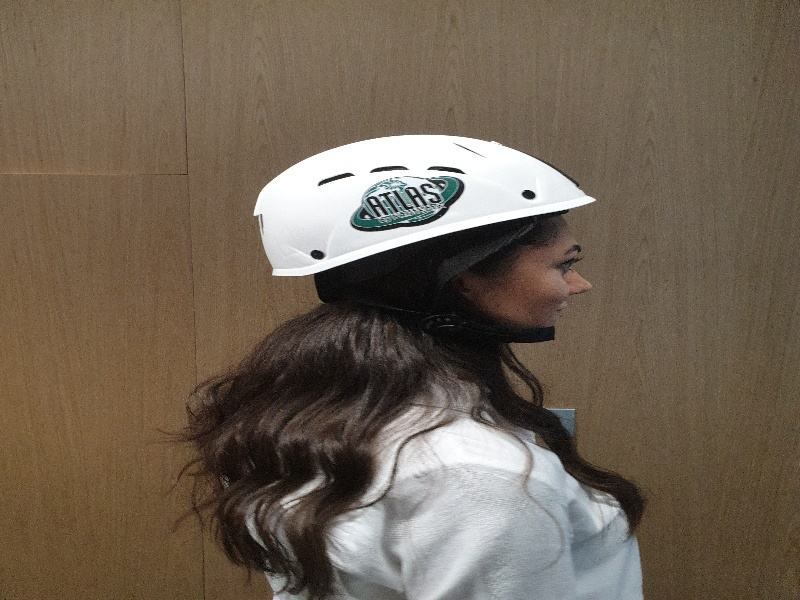Baret: (253, 132, 601, 273)
